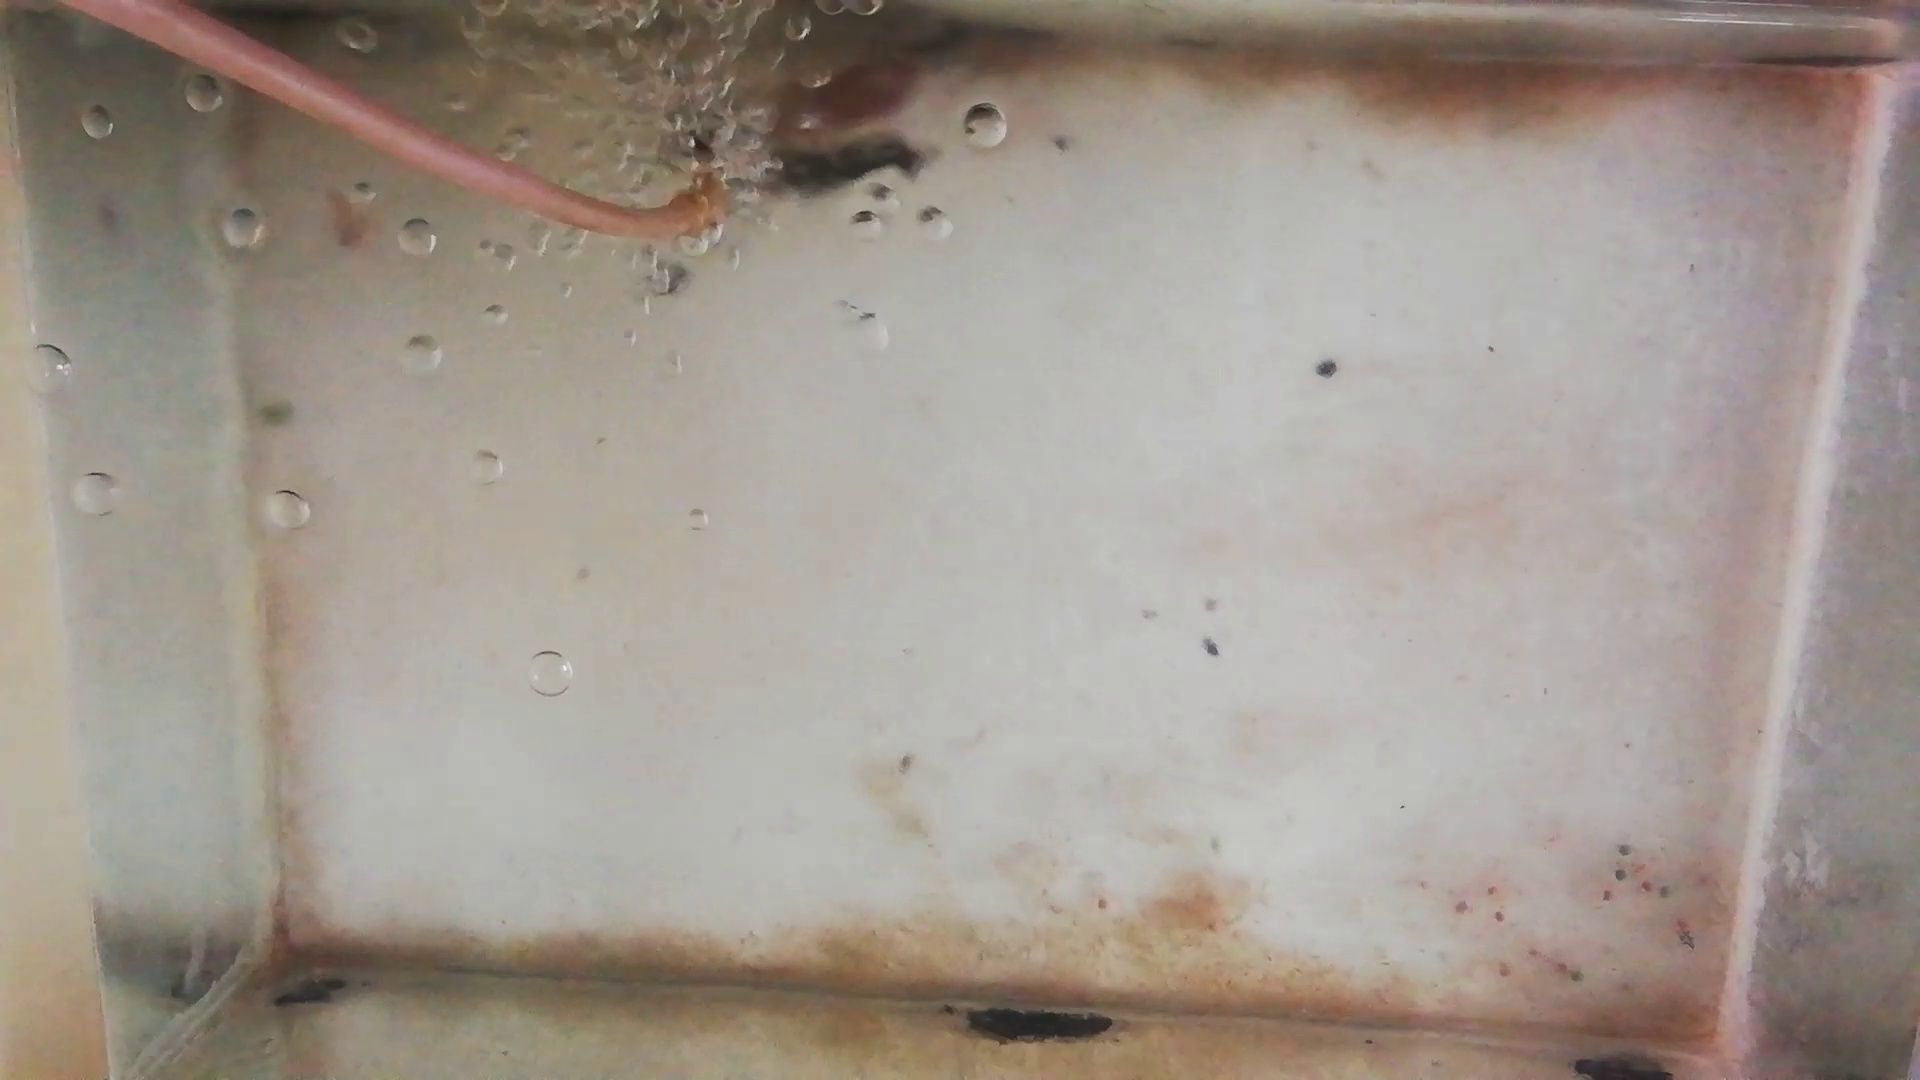fish: (725, 59, 920, 132), (721, 135, 931, 193)
